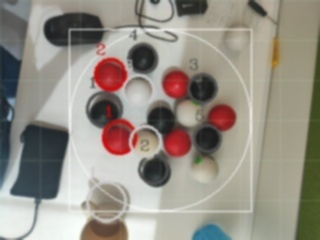Pelota blanca: (0, 193, 38, 240), (83, 181, 131, 213), (79, 215, 129, 240), (173, 99, 205, 129), (123, 75, 152, 108), (133, 0, 175, 22), (189, 155, 220, 184), (135, 125, 160, 156)
Pelota negra: (85, 91, 124, 129), (137, 155, 170, 189), (145, 99, 176, 135), (127, 41, 159, 75), (187, 73, 219, 102), (193, 123, 222, 154), (189, 223, 232, 240), (247, 0, 266, 16)
Pelota roja: (101, 117, 139, 156), (93, 57, 129, 93), (159, 65, 190, 99), (163, 127, 192, 159), (207, 103, 236, 132)
